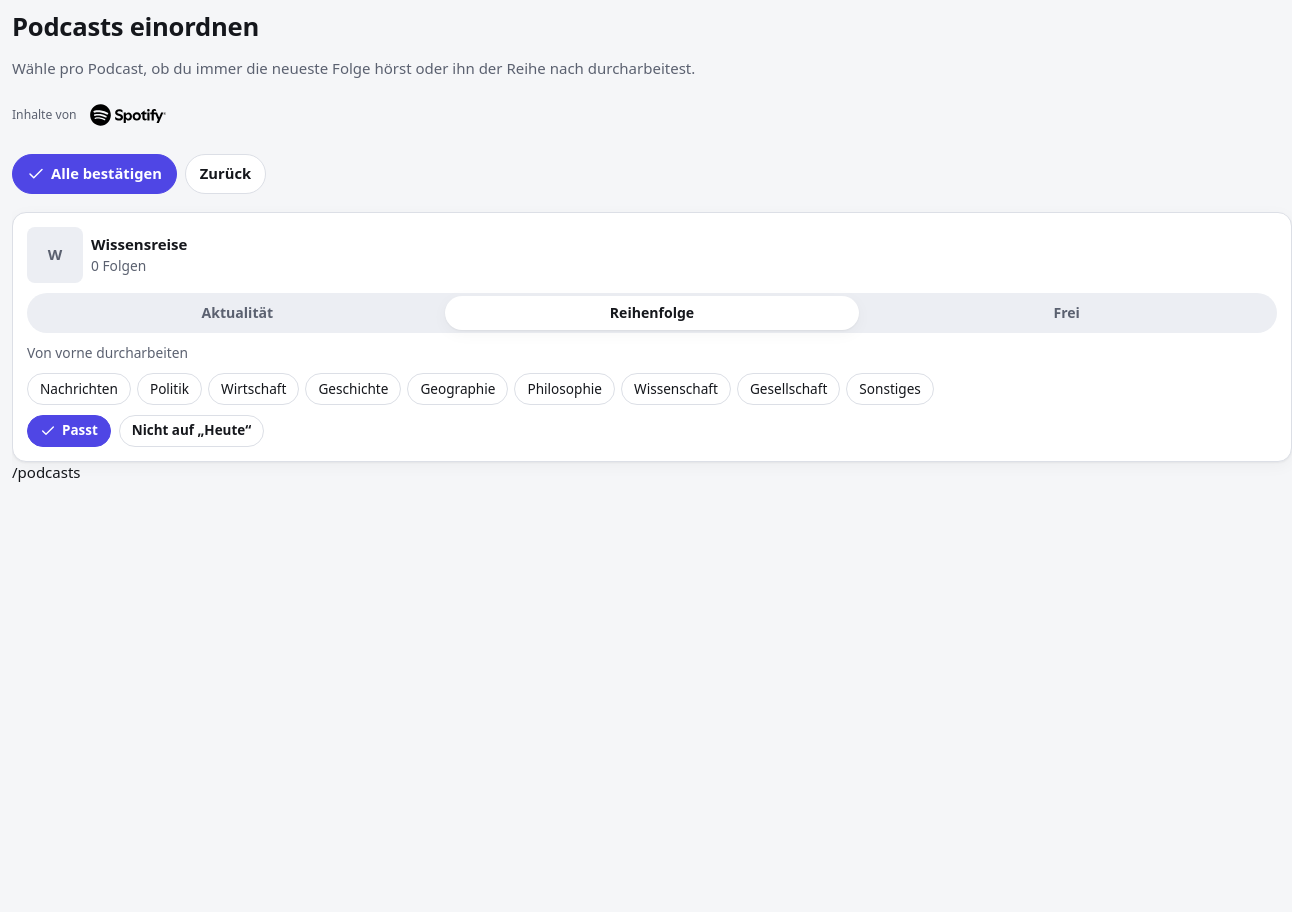
ShowsPage › puts a choice on a review card back when saving it fails
Click the radio button labelled "Aktualität": (237, 313) [30,296,445,330]
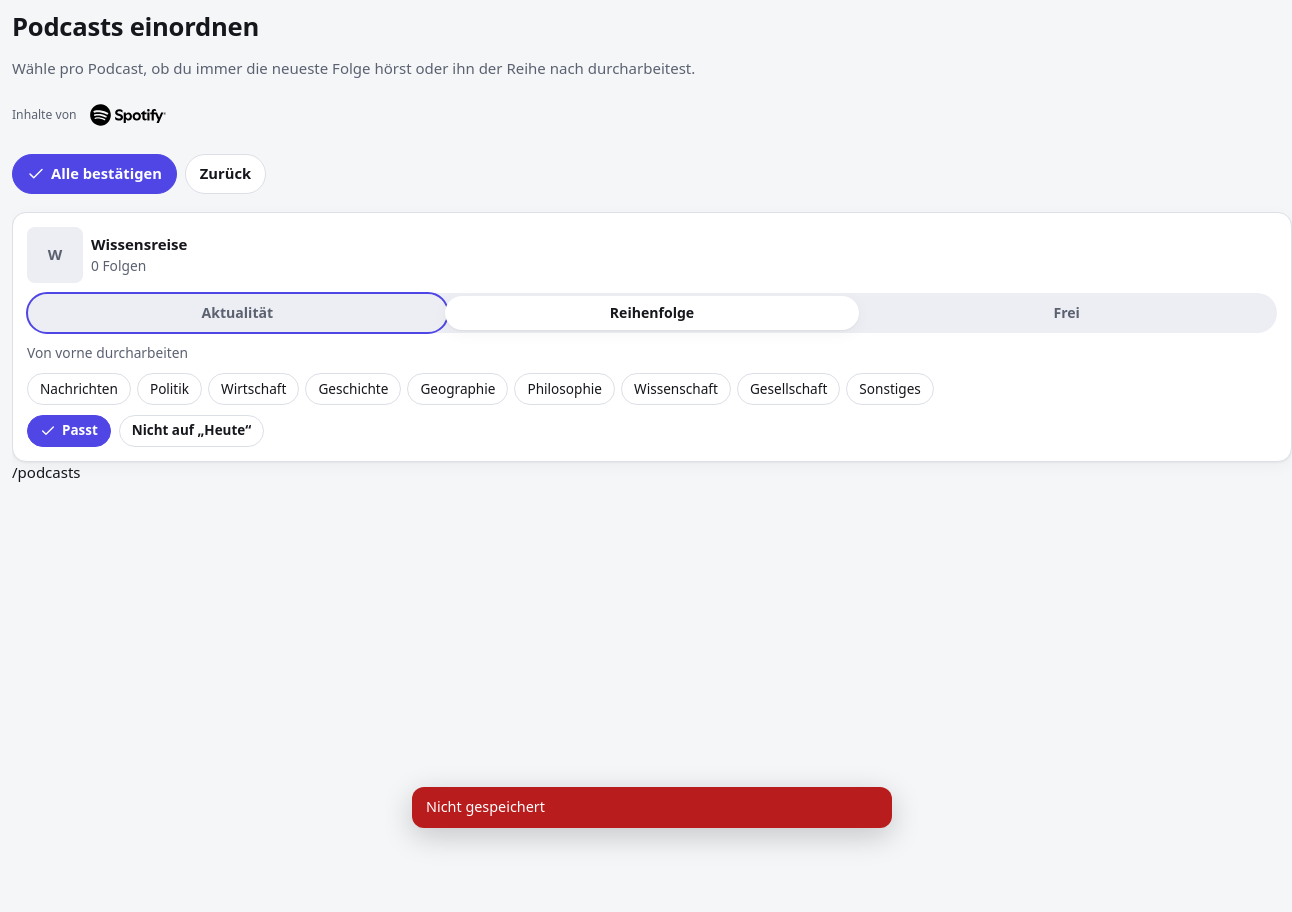
Now the text "Nicht gespeichert" is shown, box [426,797,545,816]
